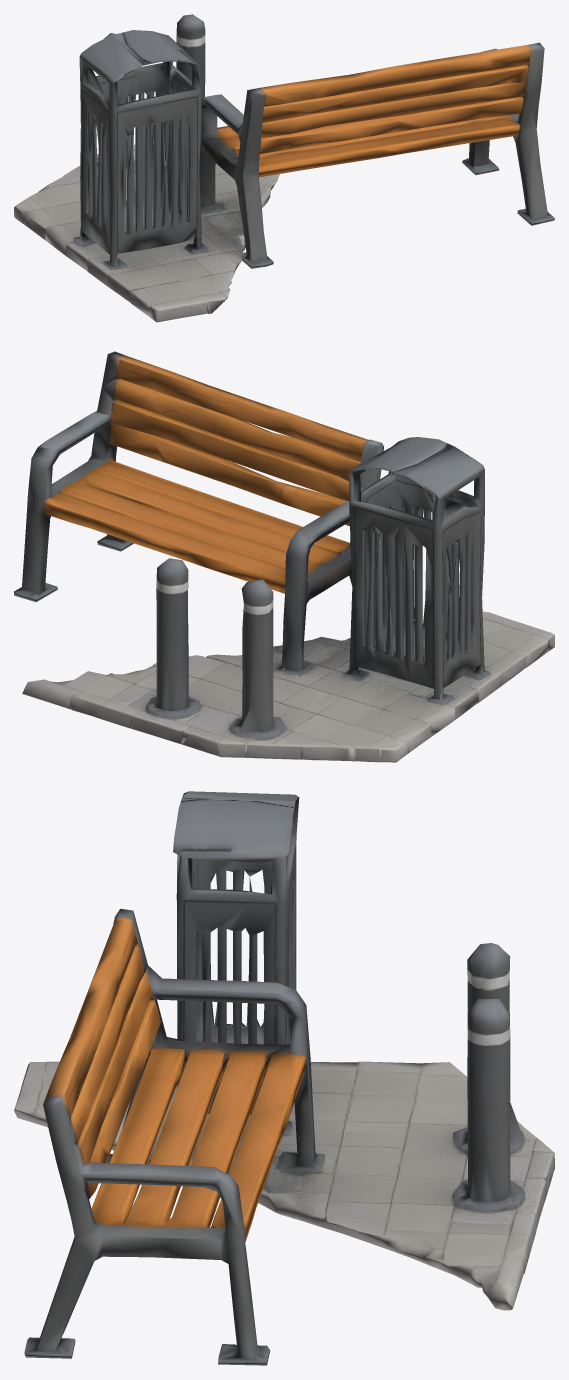
The model's file is bench_set.glb.
3 renders of one model, top to bottom at view 1: azimuth 30°, elevation 25°; view 2: azimuth 150°, elevation 25°; view 3: azimuth 270°, elevation 25°, orthographic. The views are drawn at different scales.
Visible parts, largest first — view 1: tripo_node_f5205aae-9a80-4b25-8c38-6d806300f5d8; view 2: tripo_node_f5205aae-9a80-4b25-8c38-6d806300f5d8; view 3: tripo_node_f5205aae-9a80-4b25-8c38-6d806300f5d8.
Boxes of the visible parts, x1=… form: tripo_node_f5205aae-9a80-4b25-8c38-6d806300f5d8: x1=14, y1=14, x2=554, y2=322; tripo_node_f5205aae-9a80-4b25-8c38-6d806300f5d8: x1=14, y1=351, x2=554, y2=762; tripo_node_f5205aae-9a80-4b25-8c38-6d806300f5d8: x1=14, y1=791, x2=554, y2=1365.
Bounding box in the file's own units: 1 × 0.4961 × 0.7728.
1 material, 1 textured.
